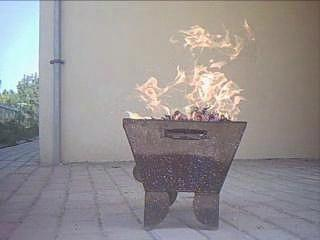fire: (119, 24, 253, 125)
